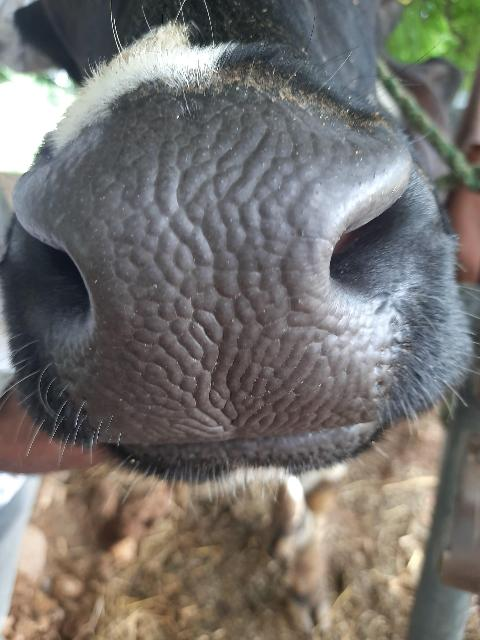Muzzle: (30, 127, 414, 435)
